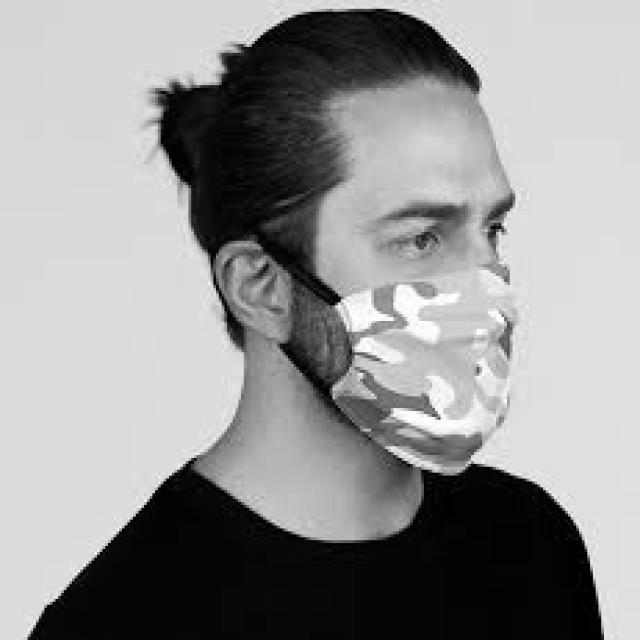fake: (308, 252, 523, 484)
real: (305, 77, 522, 488)
